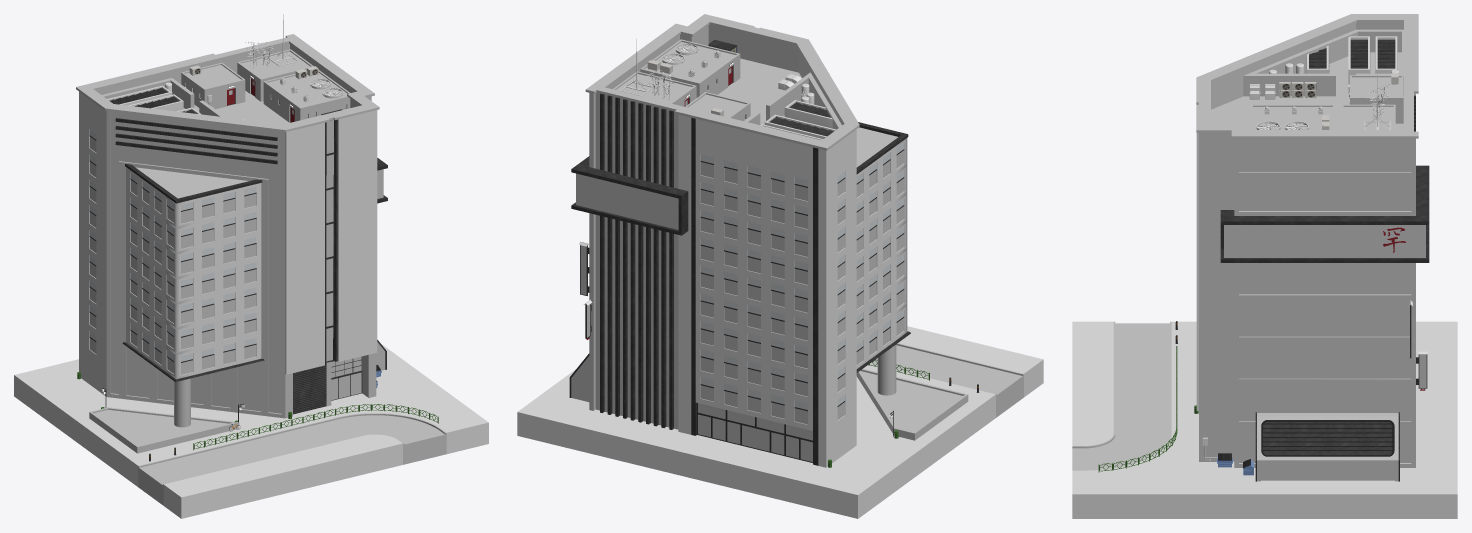
The model's file is KB3D_NTT_BldgMD_G.fbx.
The picture shows the model from 3 angles, left to right: view 1: azimuth 30°, elevation 25°; view 2: azimuth 150°, elevation 25°; view 3: azimuth 270°, elevation 25°; orthographic projection. The views are drawn at different scales.
Parts seen in each view (by area): view 1: KB3D_NTT_BldgMD_G_BuildingA, KB3D_NTT_BldgMD_G_Main; view 2: KB3D_NTT_BldgMD_G_BuildingA, KB3D_NTT_BldgMD_G_Main; view 3: KB3D_NTT_BldgMD_G_BuildingA, KB3D_NTT_BldgMD_G_Main.
Boxes of the visible parts, x1,y1,x2,y2 form: KB3D_NTT_BldgMD_G_BuildingA: (76, 14, 387, 427); KB3D_NTT_BldgMD_G_Main: (14, 344, 488, 518); KB3D_NTT_BldgMD_G_BuildingA: (569, 14, 910, 467); KB3D_NTT_BldgMD_G_Main: (517, 326, 1043, 518); KB3D_NTT_BldgMD_G_BuildingA: (1194, 14, 1429, 481); KB3D_NTT_BldgMD_G_Main: (1072, 321, 1457, 518).
Bounding box in the file's own units: 4495 × 4900 × 4239.
